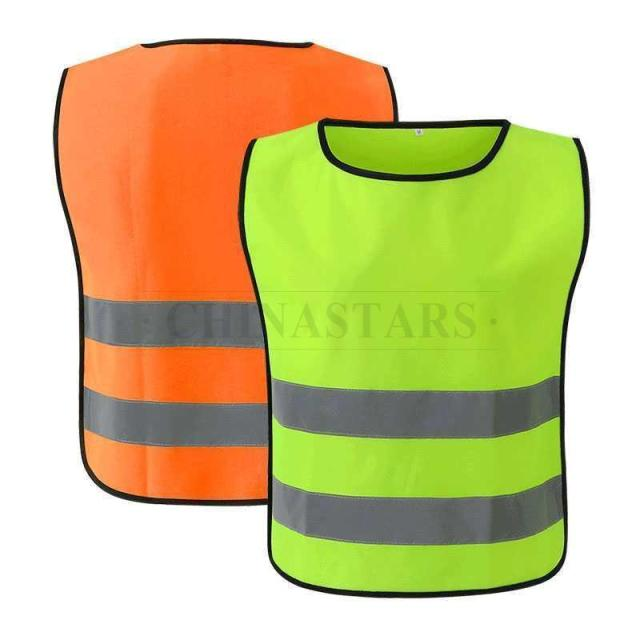Vest: (241, 111, 590, 598), (54, 40, 398, 510)
